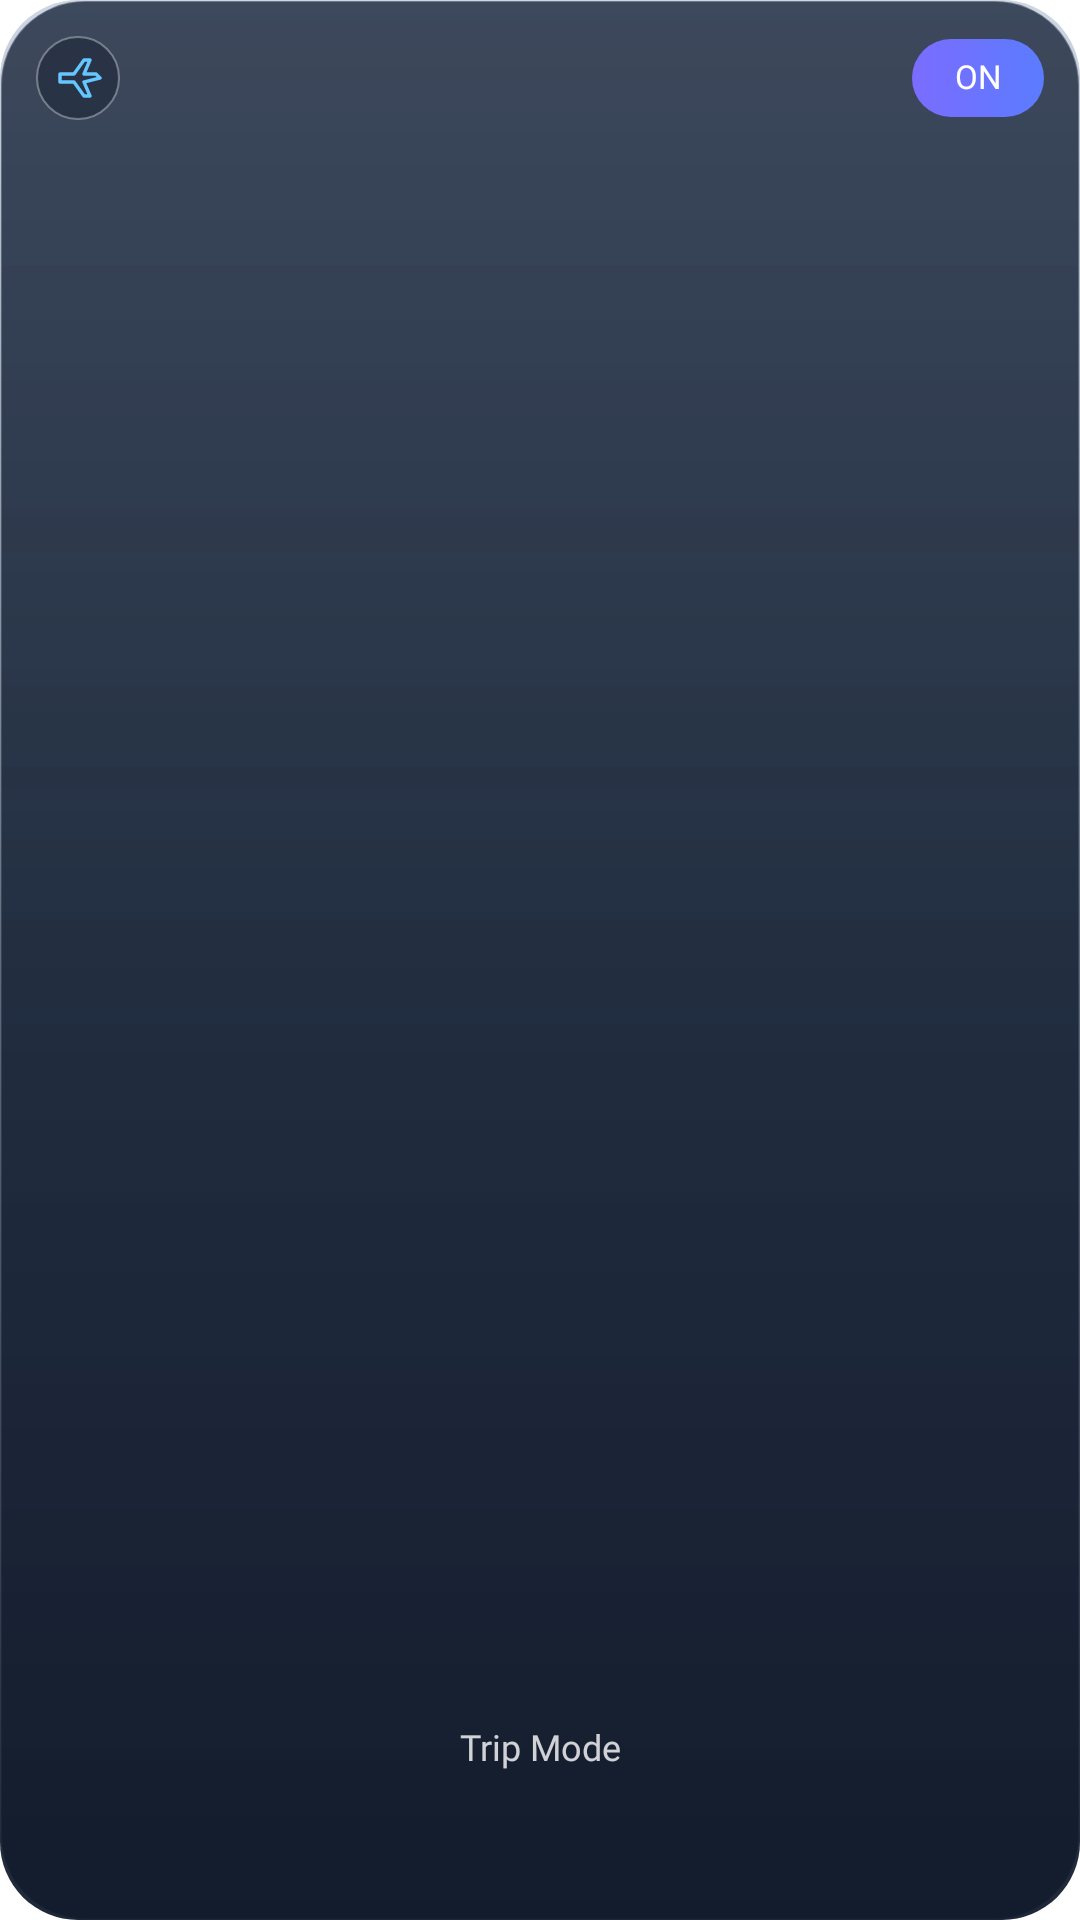

Point at icon controls on the screen. Image size 1080 × 1920, points as [x,y].
widget trip: [78,78]
